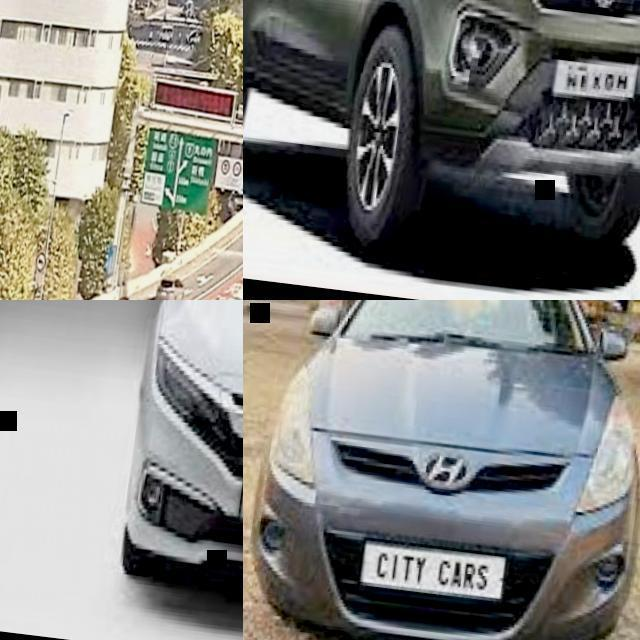car: (242, 0, 427, 256)
